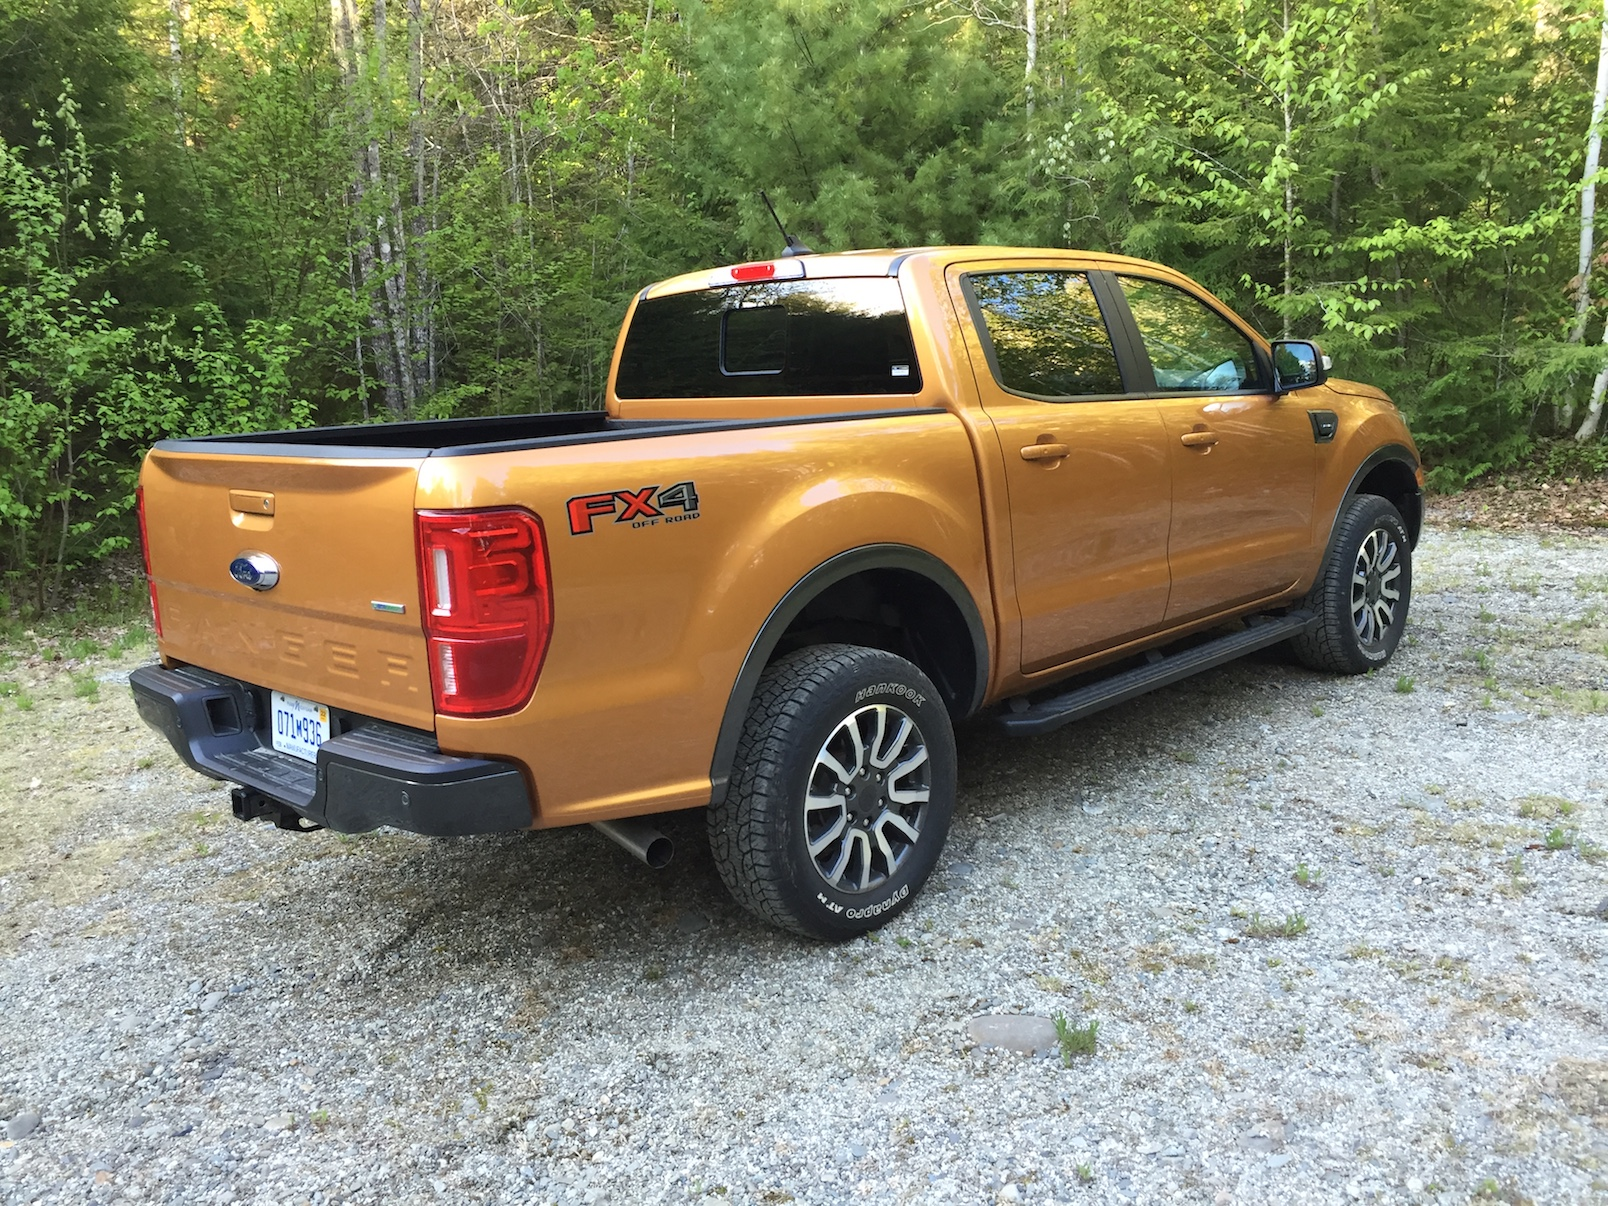Vehicle: (122, 223, 1467, 948)
